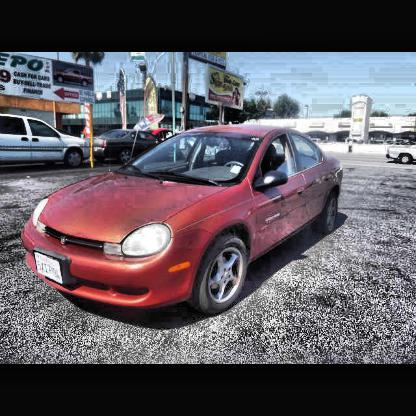Plymouth Neon Coupe 1999: (22, 127, 343, 318)
